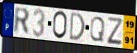3: (32, 7, 47, 39)
D: (68, 11, 86, 42)
O: (52, 10, 68, 41)
Q: (89, 16, 107, 43)
R: (13, 6, 31, 37)
Z: (106, 16, 123, 45)
